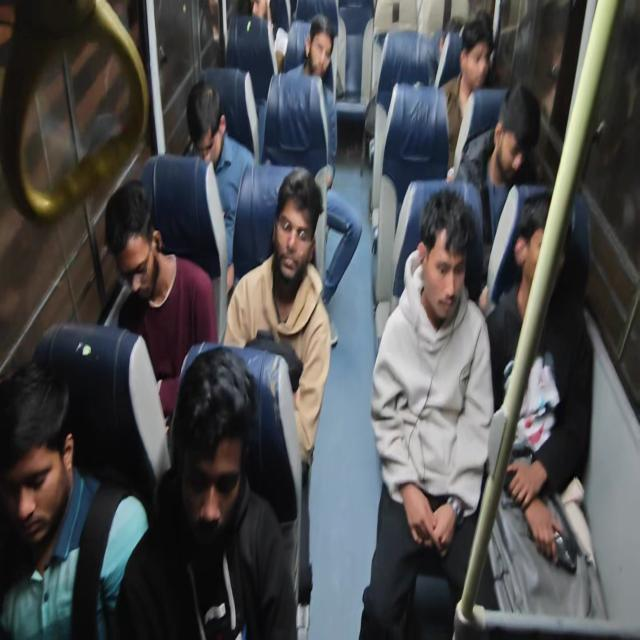person: (0, 366, 90, 549), (169, 354, 248, 562), (99, 186, 171, 306), (418, 190, 485, 310), (511, 186, 572, 300), (276, 167, 324, 300), (494, 83, 538, 185), (188, 84, 230, 177), (458, 13, 496, 108), (306, 20, 334, 78), (441, 20, 466, 54), (247, 0, 271, 29)
